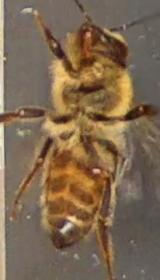varroa_mite: (81, 154, 108, 181)
